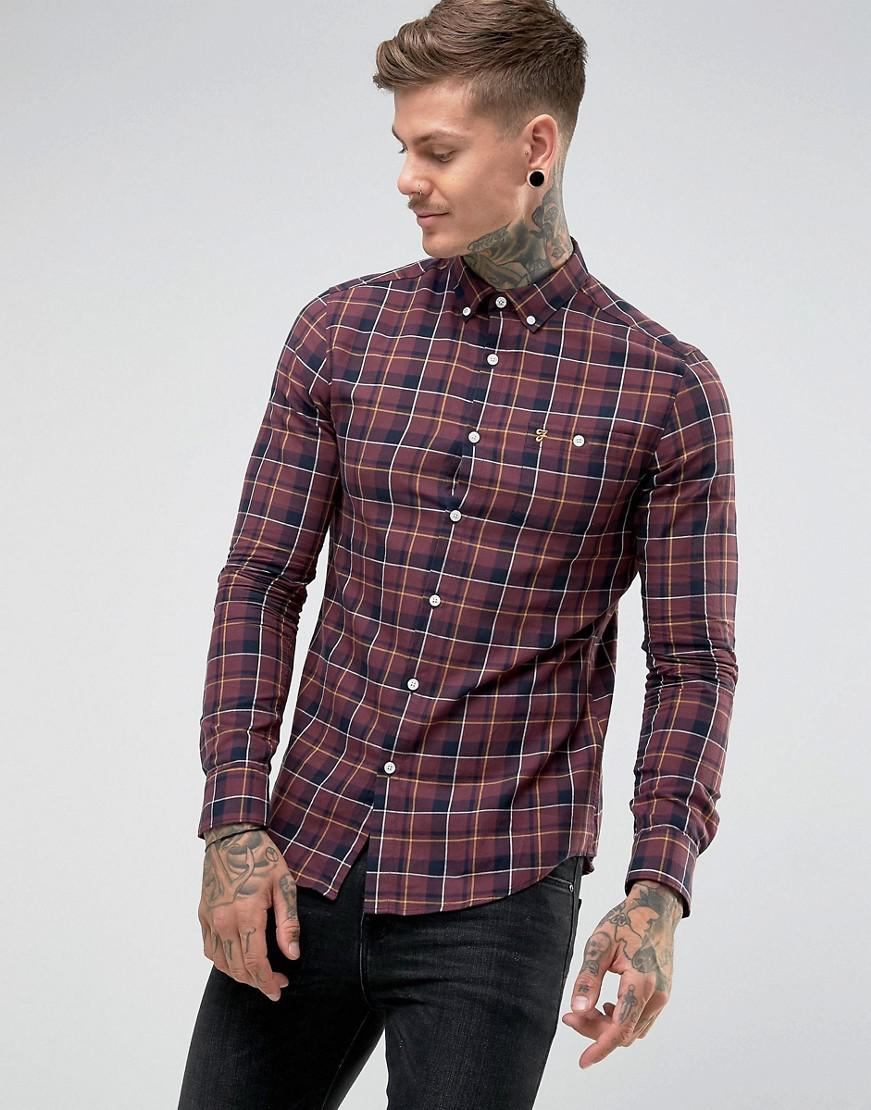teeshirt: (200, 232, 749, 920)
